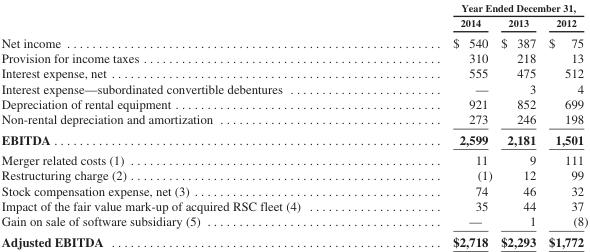table: (0, 1, 587, 248)
table column: (0, 1, 376, 248), (376, 1, 495, 248), (495, 1, 541, 248), (541, 1, 587, 248)
table column header: (0, 1, 587, 31)
table row: (0, 128, 587, 149), (0, 31, 587, 49), (0, 149, 587, 167), (0, 213, 587, 231), (0, 14, 587, 31), (0, 111, 587, 128), (0, 231, 587, 248), (0, 49, 587, 65), (0, 95, 587, 111), (0, 182, 587, 198), (0, 65, 587, 80), (0, 80, 587, 95), (0, 167, 587, 182), (0, 198, 587, 213), (0, 1, 587, 14)
table spanning cell: (376, 1, 587, 14)
